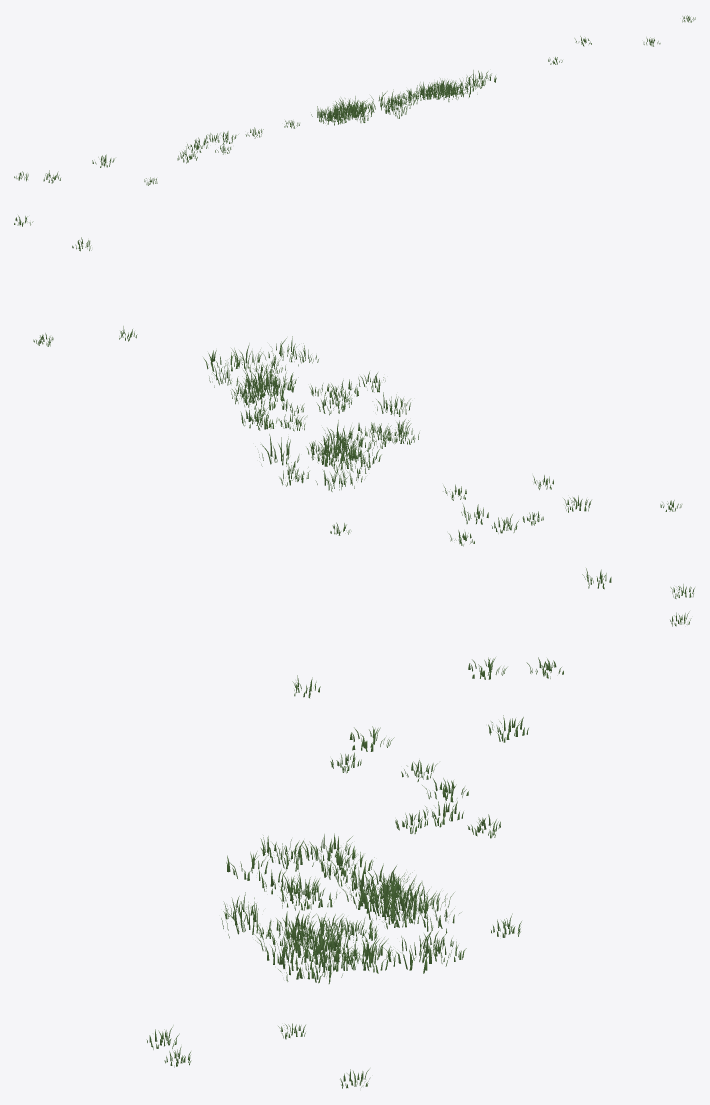
Rendered from P2N_forest_grass_-8_7.glb.
The picture shows the model from 3 angles, top to bottom: view 1: azimuth 30°, elevation 25°; view 2: azimuth 150°, elevation 25°; view 3: azimuth 270°, elevation 25°; orthographic projection. The views are drawn at different scales.
Visible parts, largest first — view 1: P2N_forest_grass_-8_7; view 2: P2N_forest_grass_-8_7; view 3: P2N_forest_grass_-8_7.
Boxes of the visible parts, bbox=[...] form: P2N_forest_grass_-8_7: bbox=[14, 15, 695, 185]; P2N_forest_grass_-8_7: bbox=[14, 215, 694, 626]; P2N_forest_grass_-8_7: bbox=[146, 657, 563, 1088].
Bounding box in the file's own units: 31.68 × 4.84 × 9.78.
